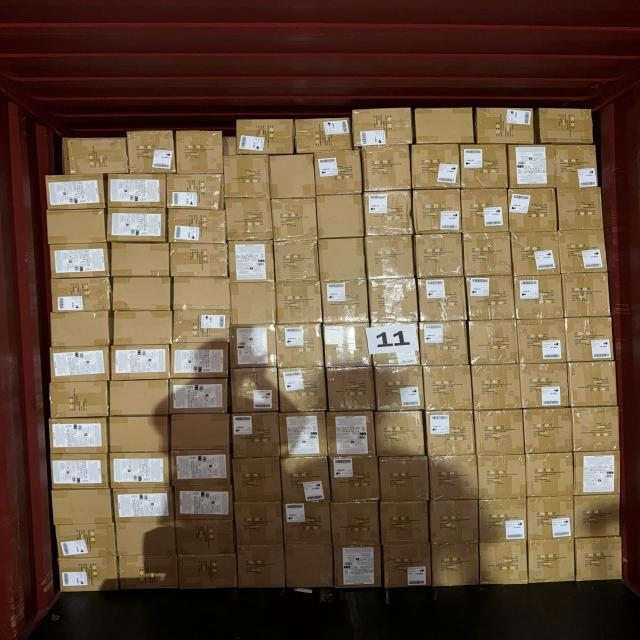Carton: (332, 502, 381, 590), (175, 516, 235, 558), (428, 497, 480, 545), (478, 496, 530, 544), (62, 136, 126, 175), (351, 109, 412, 148), (537, 105, 596, 145), (110, 415, 172, 453), (55, 556, 117, 594), (174, 484, 236, 522), (284, 543, 333, 591), (330, 455, 380, 502), (374, 410, 424, 457), (426, 409, 476, 456), (428, 541, 478, 588), (230, 456, 281, 502), (475, 409, 526, 455), (522, 408, 573, 454), (413, 107, 474, 145), (410, 145, 460, 191), (276, 367, 326, 413), (427, 456, 477, 502), (522, 361, 572, 407), (373, 367, 424, 412), (423, 366, 474, 411), (413, 190, 464, 235), (377, 458, 428, 503), (109, 452, 171, 489), (118, 554, 180, 591), (370, 324, 422, 368), (173, 413, 233, 451), (174, 454, 234, 492), (177, 554, 237, 592), (110, 381, 171, 418), (364, 191, 413, 237), (282, 457, 331, 503), (420, 322, 469, 368), (234, 544, 283, 590), (380, 544, 429, 590), (328, 411, 378, 456), (471, 365, 521, 410), (414, 235, 464, 280), (466, 275, 516, 320), (574, 537, 624, 582), (177, 130, 227, 175), (111, 244, 173, 280), (112, 313, 174, 349), (116, 523, 178, 559), (51, 488, 113, 524), (114, 488, 176, 524), (55, 524, 117, 560), (48, 418, 108, 455), (318, 194, 366, 240), (230, 412, 278, 458), (363, 147, 411, 193), (572, 406, 620, 452), (462, 190, 511, 235), (229, 368, 278, 413), (479, 542, 528, 587), (169, 174, 227, 212), (516, 322, 566, 366), (469, 322, 519, 366), (477, 456, 527, 500), (514, 274, 564, 318), (566, 360, 616, 404), (464, 234, 514, 278), (366, 277, 416, 321), (109, 207, 170, 243), (51, 314, 112, 350), (364, 238, 415, 281), (428, 499, 479, 542), (49, 380, 108, 417), (270, 156, 317, 202), (108, 176, 168, 212), (168, 208, 228, 244), (280, 411, 328, 456), (172, 245, 232, 281), (508, 188, 556, 233), (529, 454, 577, 499), (565, 318, 613, 363), (529, 539, 577, 584), (111, 276, 171, 312), (419, 277, 468, 321), (327, 368, 376, 412), (274, 324, 323, 368), (572, 454, 621, 498), (514, 234, 563, 278), (320, 240, 369, 284), (378, 500, 428, 543), (282, 500, 332, 543), (110, 345, 171, 380), (50, 277, 111, 312), (297, 115, 353, 153), (168, 379, 227, 415), (173, 343, 232, 379), (174, 276, 233, 312), (50, 452, 109, 488), (474, 110, 533, 146), (316, 152, 364, 196), (461, 146, 509, 190), (564, 273, 612, 317), (573, 493, 621, 537), (506, 144, 554, 188), (48, 243, 110, 277), (529, 496, 578, 539), (236, 505, 286, 547), (558, 232, 608, 274), (48, 209, 108, 244), (236, 120, 294, 156), (229, 279, 274, 325), (274, 280, 321, 324), (323, 325, 370, 369), (51, 347, 110, 382), (322, 279, 370, 322), (46, 178, 106, 212), (222, 157, 268, 201), (556, 143, 600, 189), (128, 131, 175, 174), (173, 310, 232, 344), (223, 198, 270, 240), (229, 326, 276, 368), (226, 243, 272, 285), (272, 198, 318, 240), (556, 190, 603, 231), (274, 243, 318, 284)
